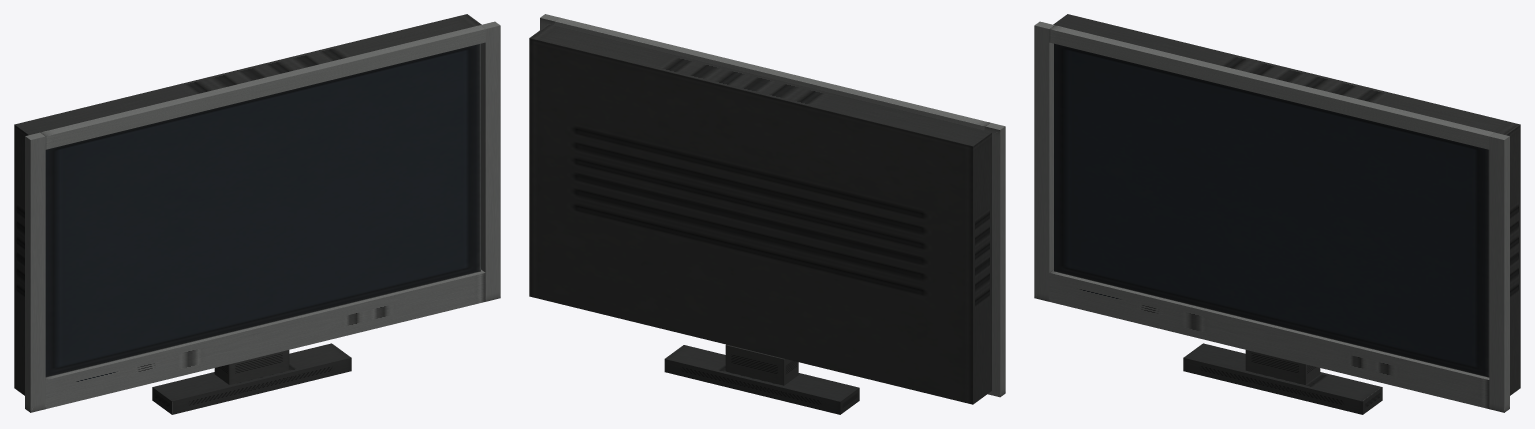
3 renders of one model, left to right at view 1: azimuth 30°, elevation 25°; view 2: azimuth 150°, elevation 25°; view 3: azimuth 330°, elevation 25°, orthographic. The views are drawn at different scales.
Parts seen in each view (by area): view 1: core_tv; view 2: core_tv; view 3: core_tv.
Boxes of the visible parts, box(x1,y1,x2,y2) form: core_tv: box(14, 14, 500, 414); core_tv: box(529, 14, 1005, 414); core_tv: box(1034, 14, 1520, 414).
Bounding box in the file's own units: 1.1 × 0.7 × 0.1.
Materials: 1 (1 with a texture image).
